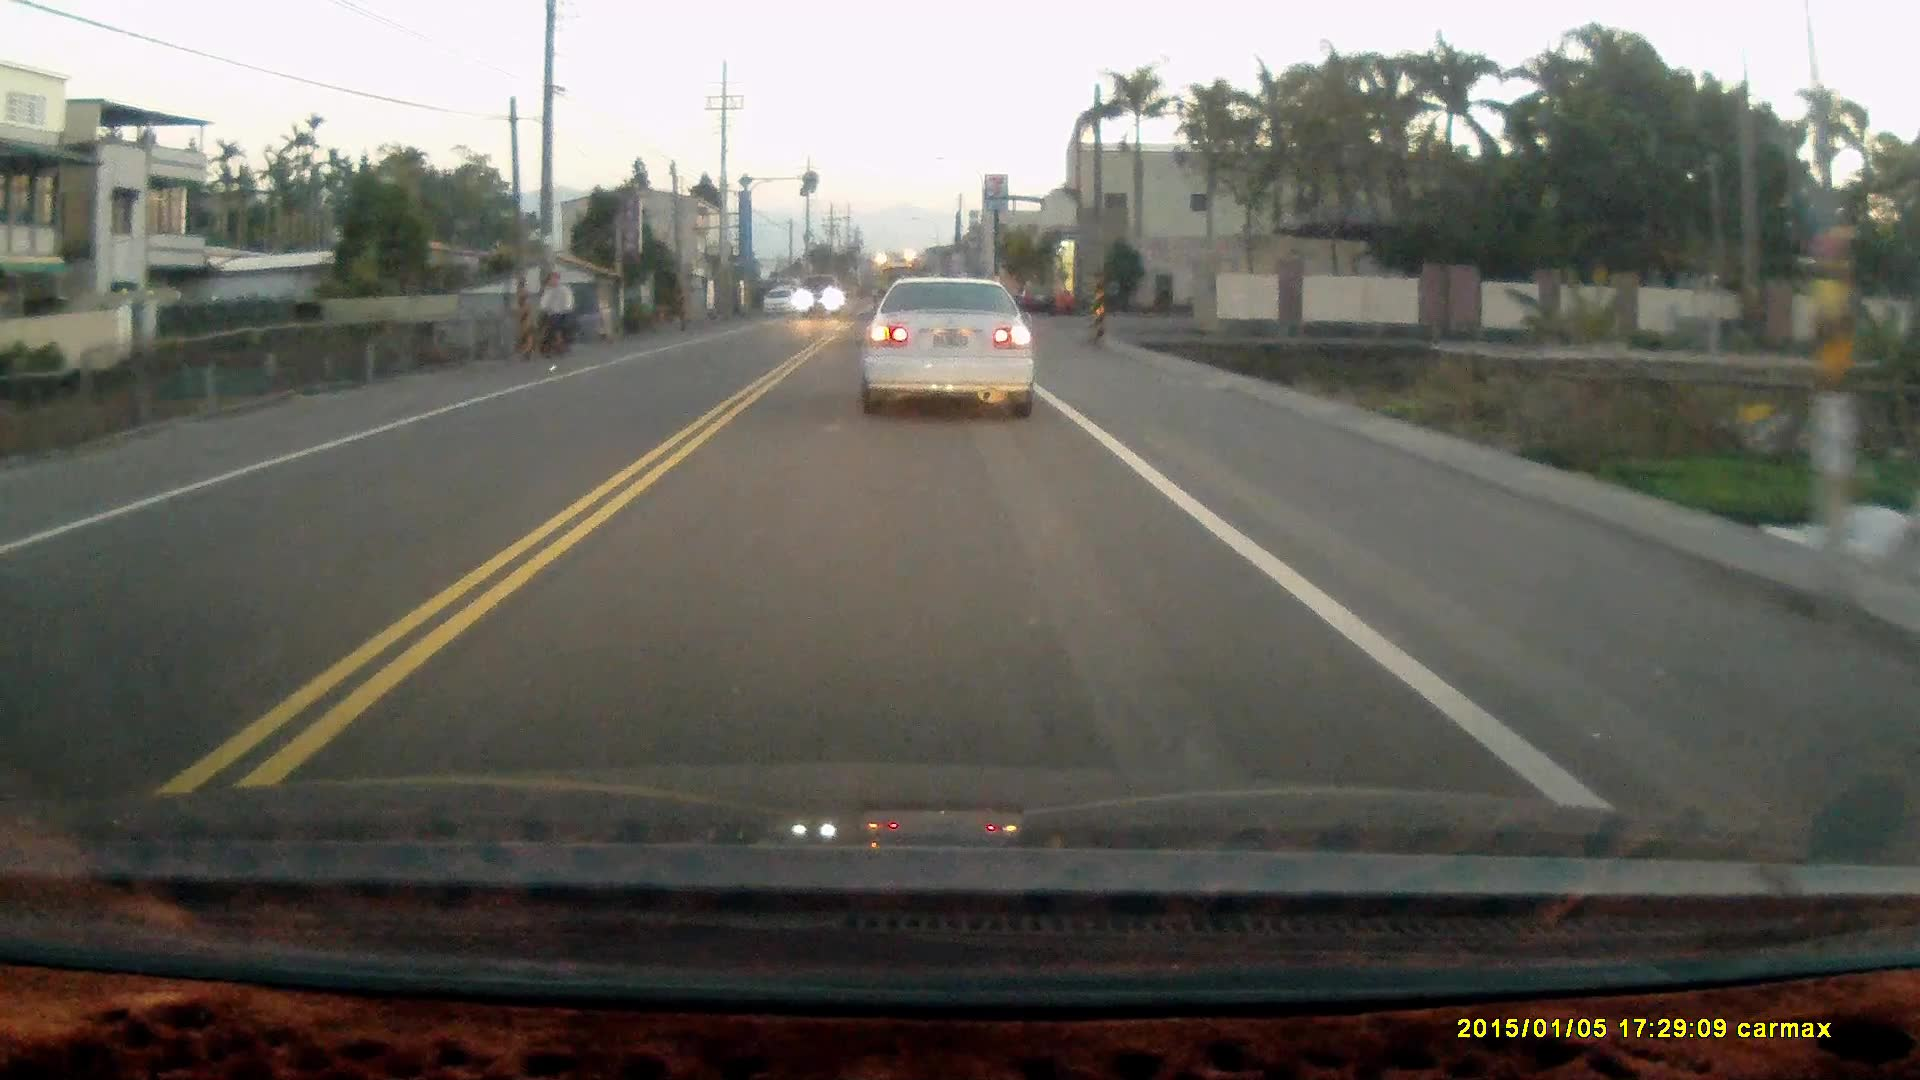rider: (533, 269, 575, 372)
vehicle: (857, 274, 1034, 419), (793, 273, 847, 321), (1017, 278, 1064, 317), (764, 288, 796, 318)
